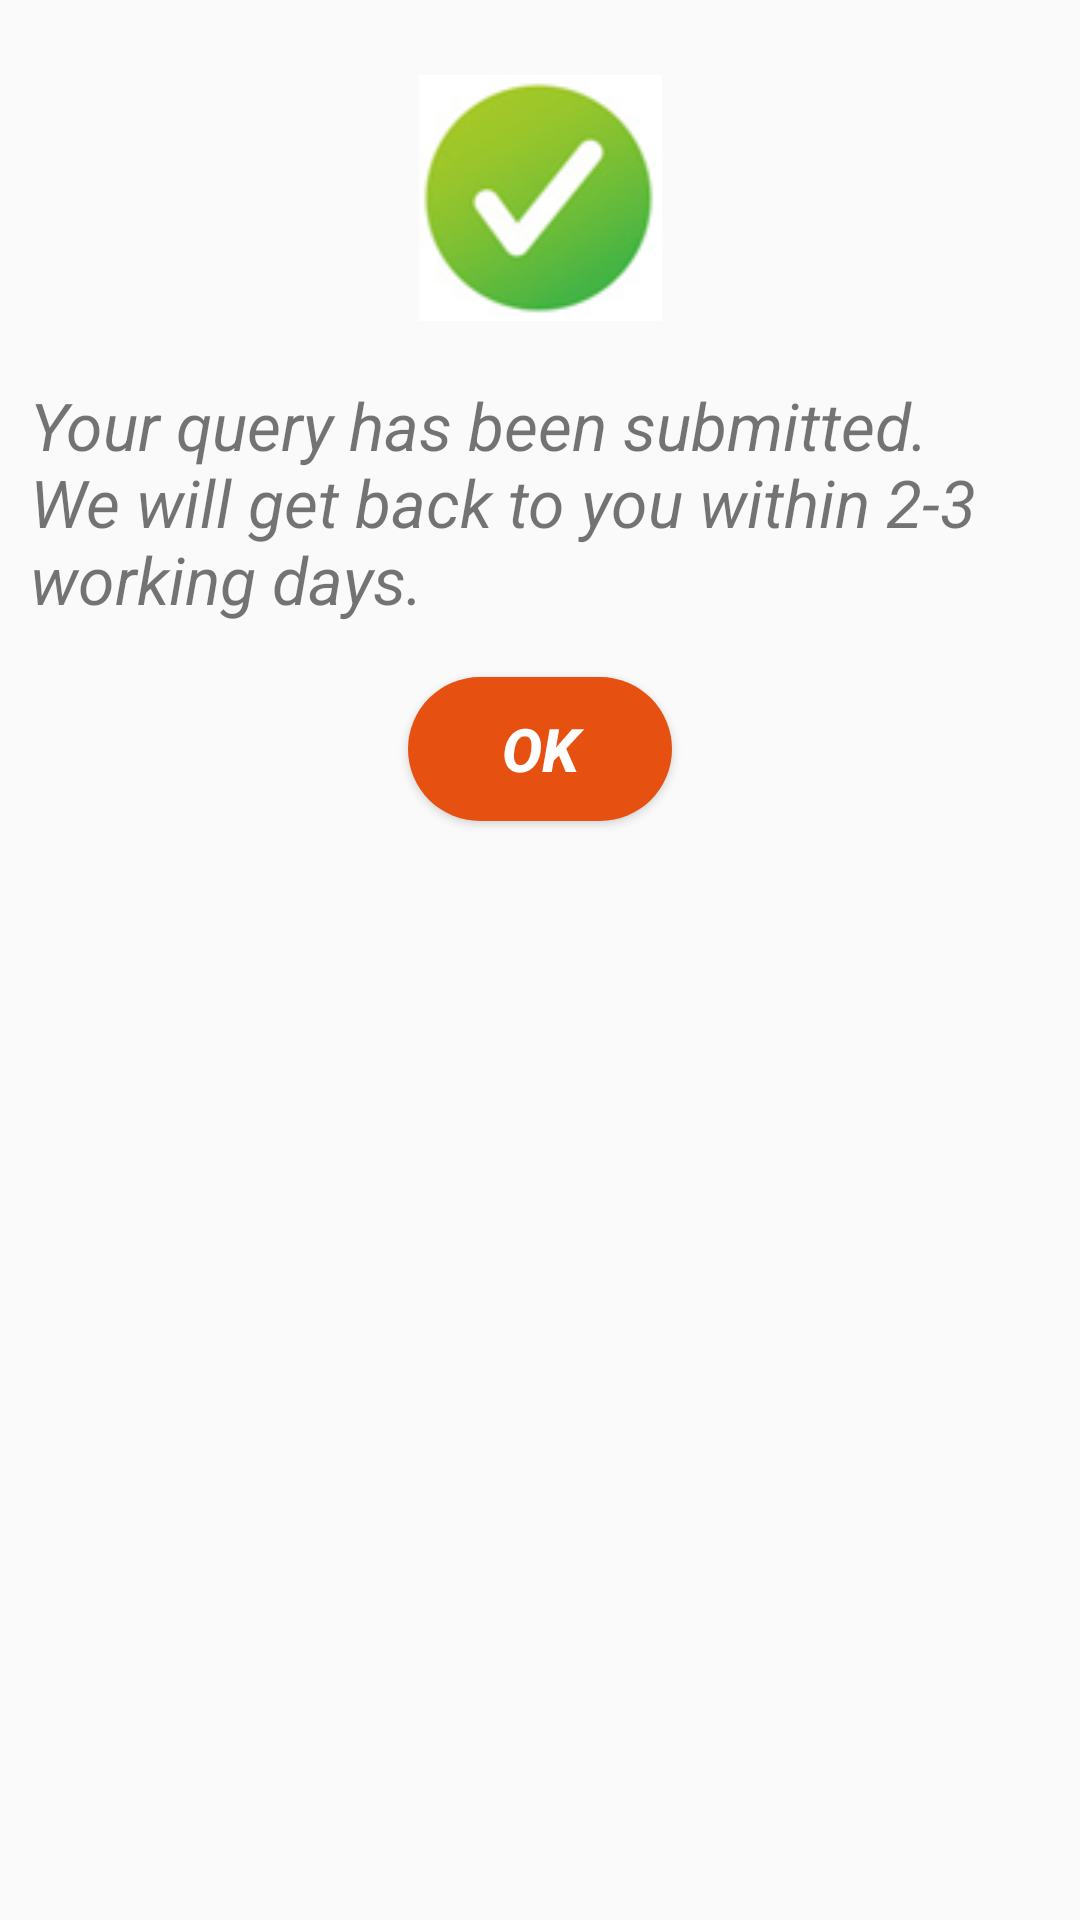

Screen size 1080w x 1920h. Icon name, then its box in pixels as bbox=[x1, y1, x2, y2]:
sub: bbox=[424, 83, 653, 313]
